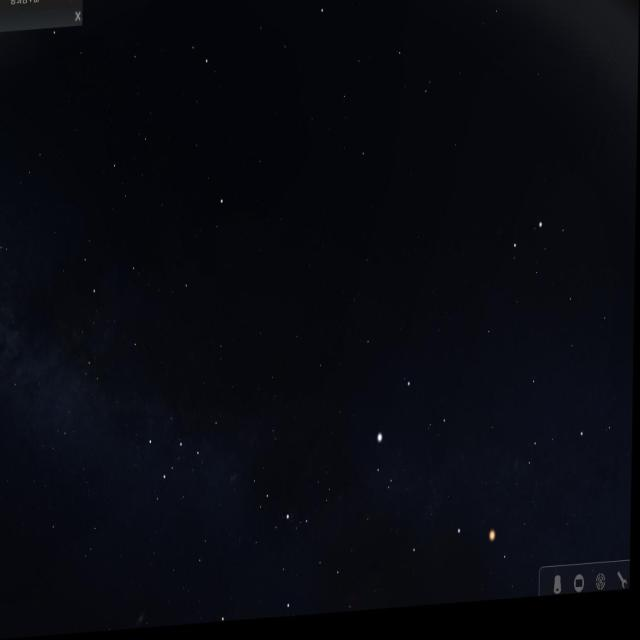cassiopeia: (135, 400, 224, 502)
